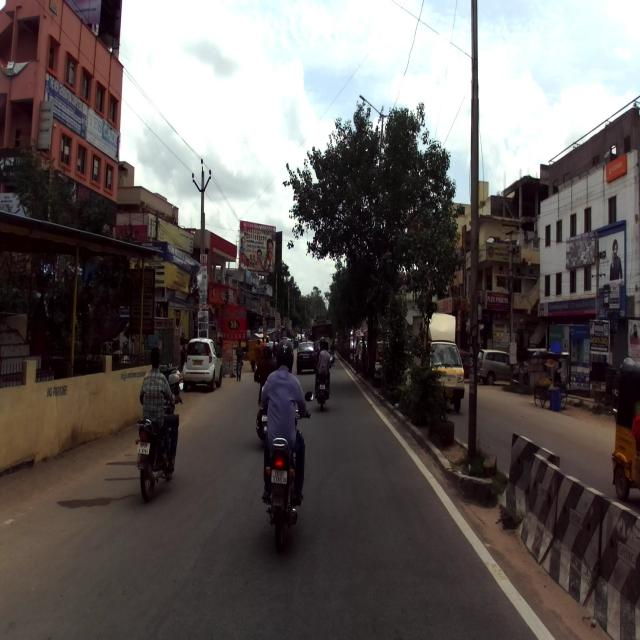motorcycle: (259, 385, 315, 556), (136, 381, 184, 504)
